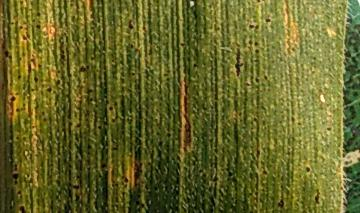tarspot: (232, 46, 245, 77), (312, 186, 322, 206), (8, 171, 22, 185), (76, 61, 90, 75), (3, 45, 13, 64), (274, 196, 287, 209), (124, 18, 136, 30), (263, 15, 275, 27), (72, 120, 84, 132), (5, 93, 19, 103), (323, 123, 334, 135), (97, 160, 109, 171), (84, 83, 94, 96), (178, 38, 186, 54), (303, 162, 312, 175), (17, 204, 30, 213), (69, 183, 82, 192), (14, 188, 25, 198), (33, 9, 43, 20), (261, 166, 271, 177), (251, 74, 261, 85), (33, 22, 45, 31), (156, 147, 164, 160), (250, 38, 261, 47), (253, 46, 262, 57), (53, 77, 62, 88), (45, 85, 54, 96), (94, 122, 105, 131), (191, 61, 200, 72), (164, 130, 174, 139), (246, 22, 257, 30), (155, 138, 164, 147), (16, 72, 23, 83), (108, 116, 118, 123), (32, 75, 40, 83), (107, 104, 115, 112)
